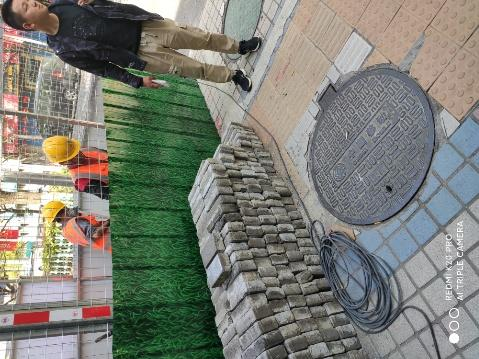wellcover: (287, 70, 450, 223)
